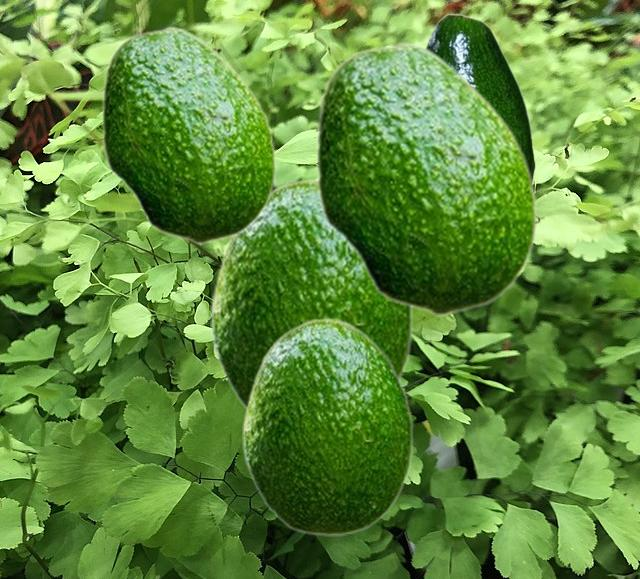avocado: (314, 40, 536, 315), (210, 178, 413, 410), (100, 25, 275, 243), (242, 317, 413, 535), (424, 13, 534, 177)
